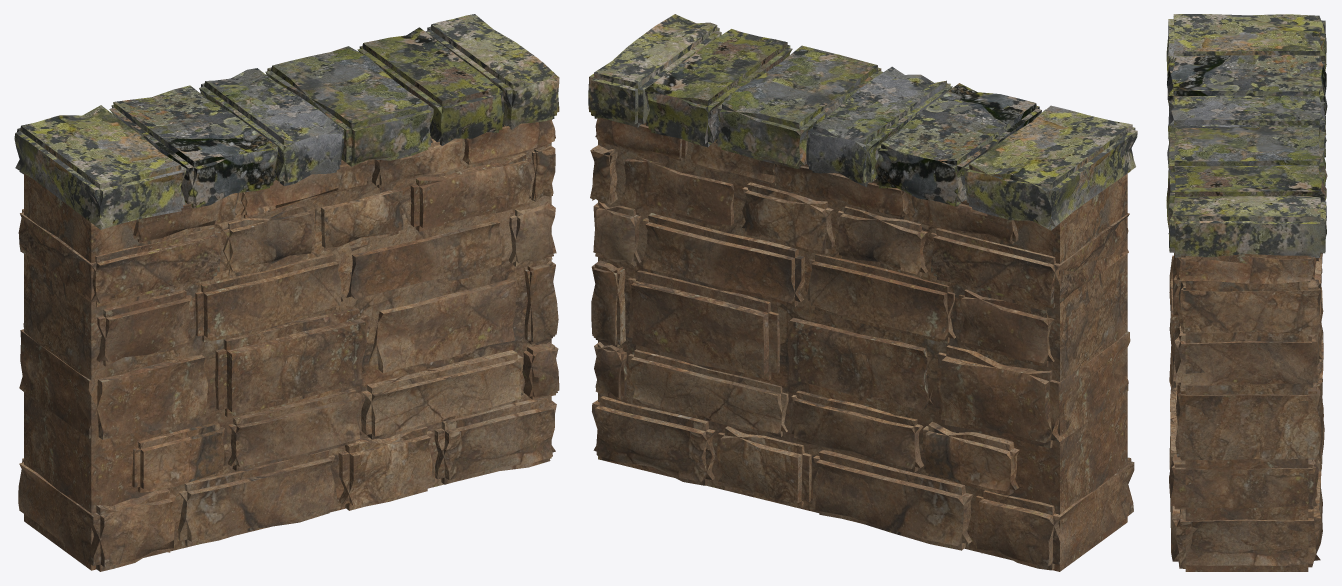
File: wall_0.glb
3 views of the same model, side by side, from view 1: azimuth 30°, elevation 25°; view 2: azimuth 150°, elevation 25°; view 3: azimuth 270°, elevation 25° (orthographic). The views are drawn at different scales.
Visible parts, largest first — view 1: wall_stone, wall_cope; view 2: wall_stone, wall_cope; view 3: wall_stone, wall_cope.
Part boxes in pixels (x1,y1,x2,y2): wall_stone: (18,119,559,571); wall_cope: (14,14,559,229); wall_stone: (590,118,1134,571); wall_cope: (588,14,1137,230); wall_stone: (1169,253,1324,571); wall_cope: (1166,14,1327,257).
Bounding box in the file's own units: 1.2 × 0.9636 × 0.3941.
Materials: 2 (2 with a texture image).
